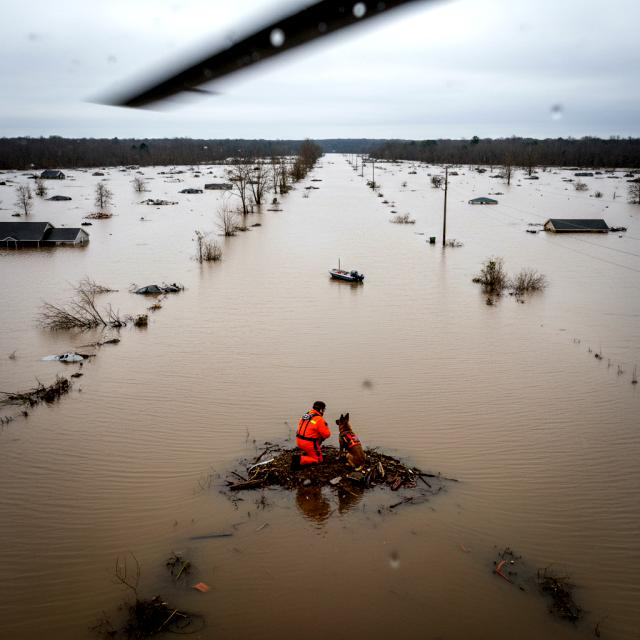dog: (331, 407, 378, 475)
rescuer: (291, 393, 333, 473)
